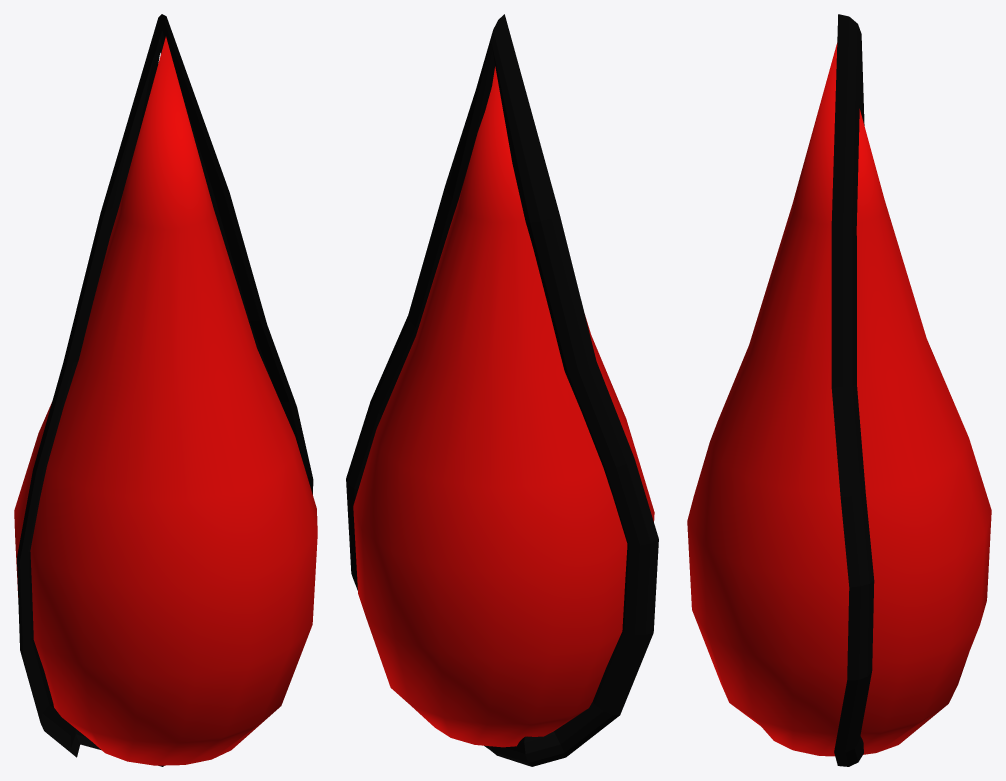
File: Fighter (2) 4.fbx
3 renders of one model, left to right at view 1: azimuth 30°, elevation 25°; view 2: azimuth 150°, elevation 25°; view 3: azimuth 270°, elevation 25°, orthographic. The views are drawn at different scales.
Parts seen in each view (by area): view 1: LineArt.003; view 2: LineArt.003; view 3: LineArt.003.
Part boxes in pixels (left/top/right/bottom): LineArt.003: left=14, top=14, right=317, bottom=766; LineArt.003: left=346, top=14, right=658, bottom=766; LineArt.003: left=687, top=14, right=991, bottom=766.
Size of the model in its own units: 9.68 by 22.94 by 8.46.
